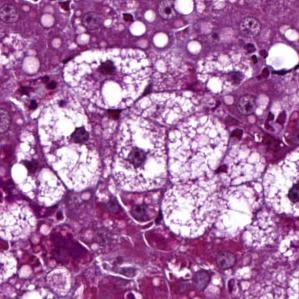ballooning: (34, 99, 107, 194), (60, 46, 155, 112), (105, 109, 171, 196)
